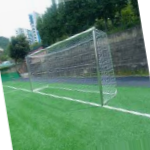goals: (25, 25, 116, 106)
